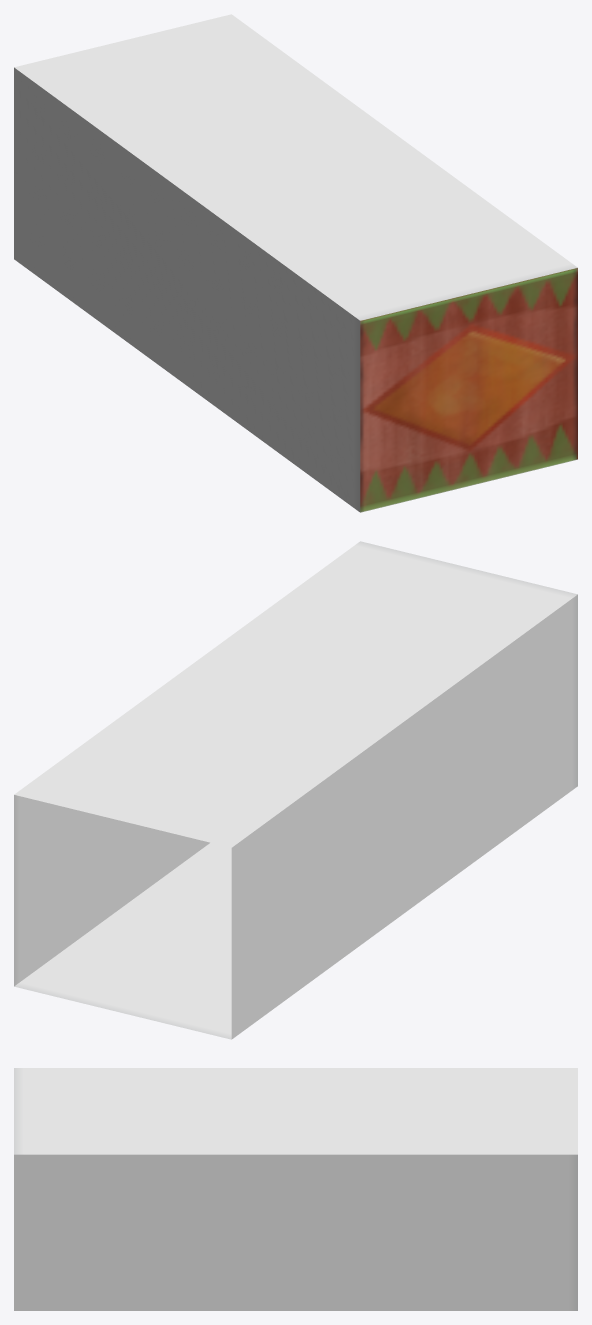
The model's file is Columna_03.fbx.
3 views of the same model, one above another, from view 1: azimuth 30°, elevation 25°; view 2: azimuth 150°, elevation 25°; view 3: azimuth 270°, elevation 25° (orthographic). The views are drawn at different scales.
Visible parts, largest first — view 1: Columna_03; view 2: Columna_03; view 3: Columna_03.
Boxes of the visible parts, left/top/right/bottom form: Columna_03: left=14, top=14, right=577, bottom=512; Columna_03: left=14, top=541, right=577, bottom=1039; Columna_03: left=14, top=1068, right=577, bottom=1310.
Size of the model in its own units: 1.9 by 1.6 by 5.23.
